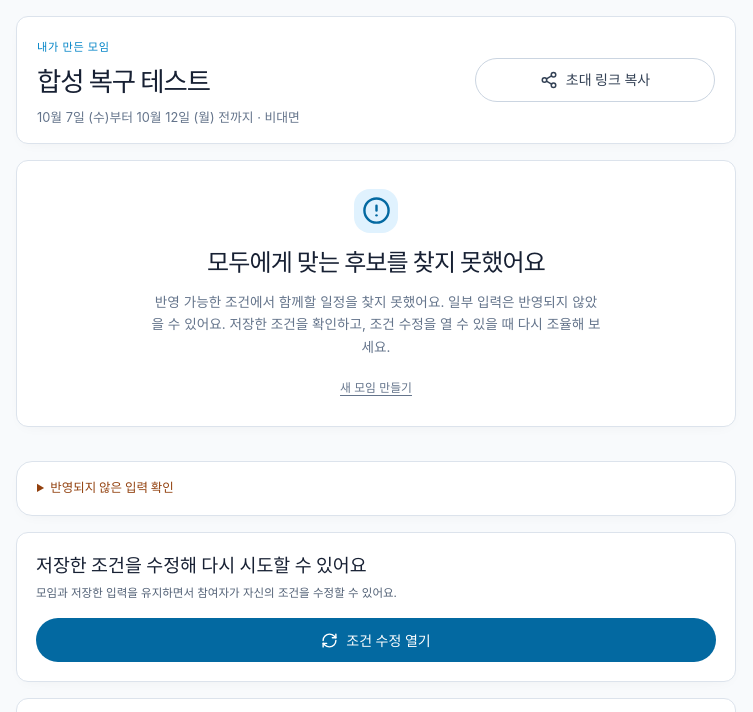
it: correction contracts and same-room recovery › handles correction command 403 without writing an owner draft
Click the button "조건 수정 열기" at [376, 640], box [36,618,716,662]
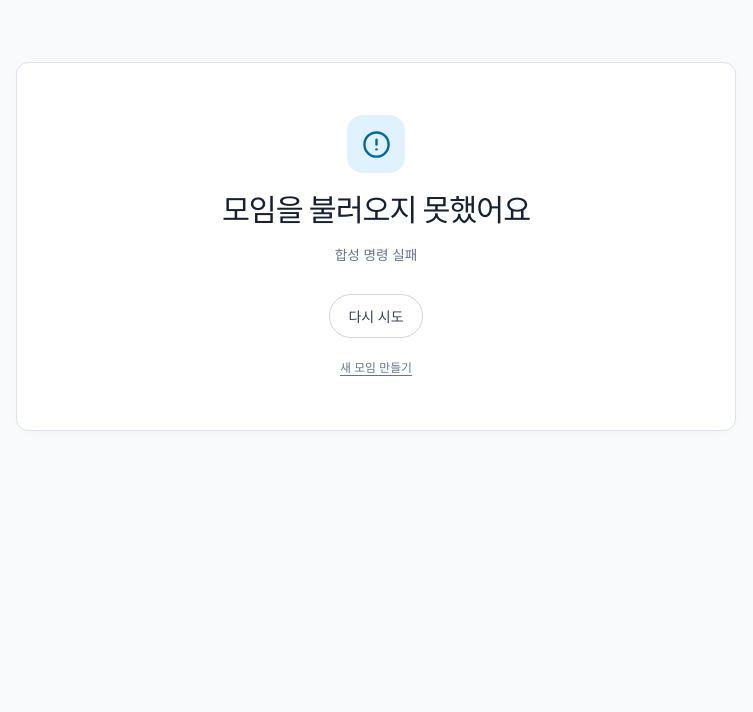
Expected: the text "합성 명령 실패" is shown, [335,247,417,263]
